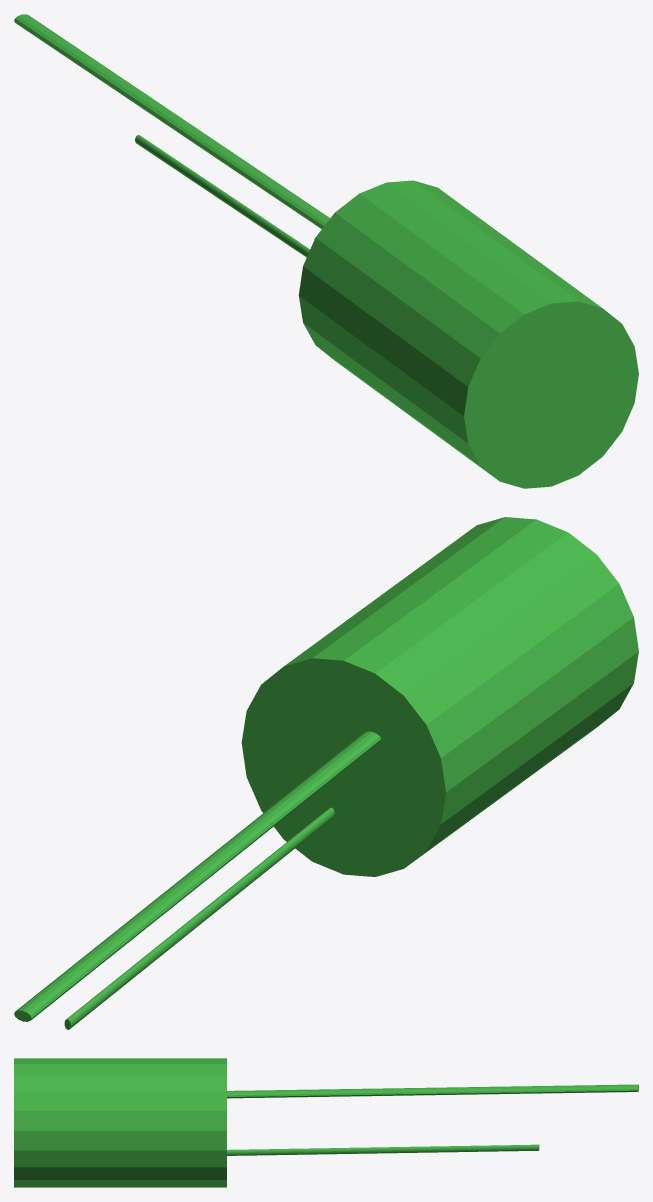
The model's file is tinker.obj.
3 renders of one model, top to bottom at view 1: azimuth 30°, elevation 25°; view 2: azimuth 150°, elevation 25°; view 3: azimuth 270°, elevation 25°, orthographic. The views are drawn at different scales.
Parts seen in each view (by area): view 1: obj_0; view 2: obj_0; view 3: obj_0.
Boxes of the visible parts, x1=… form: obj_0: x1=14, y1=14, x2=638, y2=488; obj_0: x1=14, y1=517, x2=638, y2=1029; obj_0: x1=14, y1=1058, x2=638, y2=1187.
Size of the model in its own units: 20 by 20 by 96.
